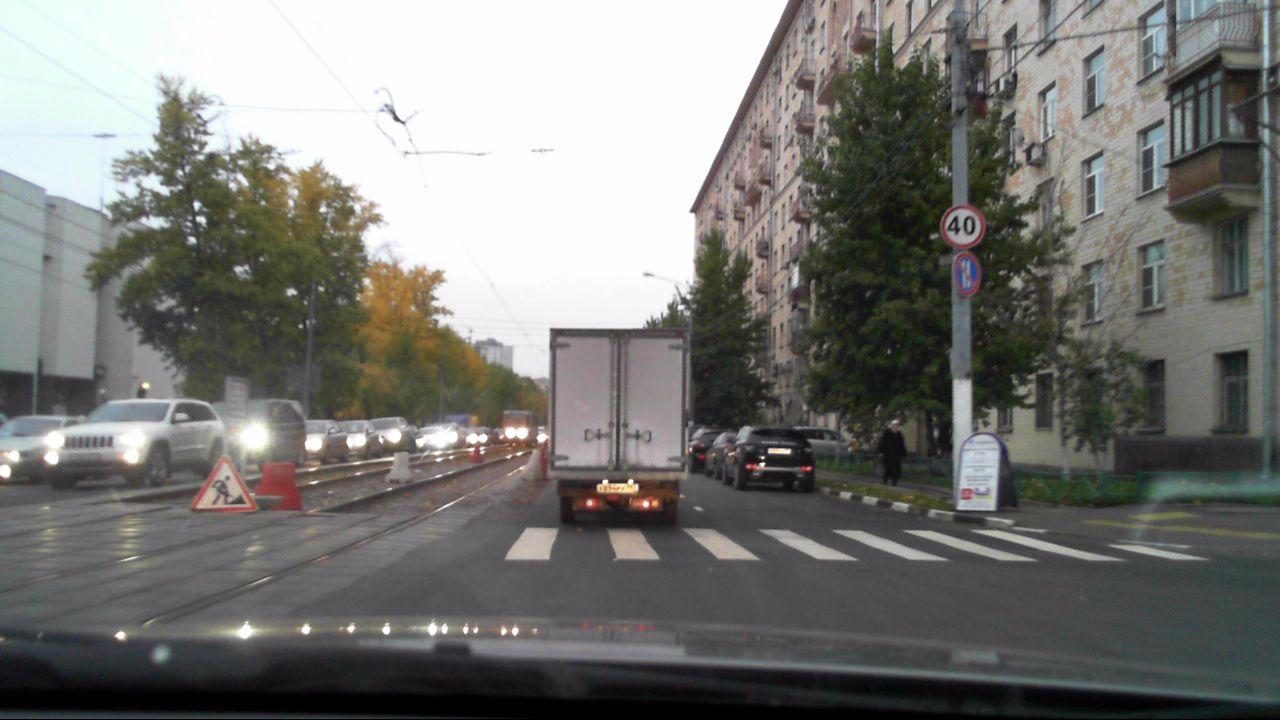1_25: (193, 453, 255, 510)
3_24: (939, 205, 985, 242)
3_30: (952, 253, 984, 302)
